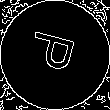P_E: (26, 30, 84, 80)
